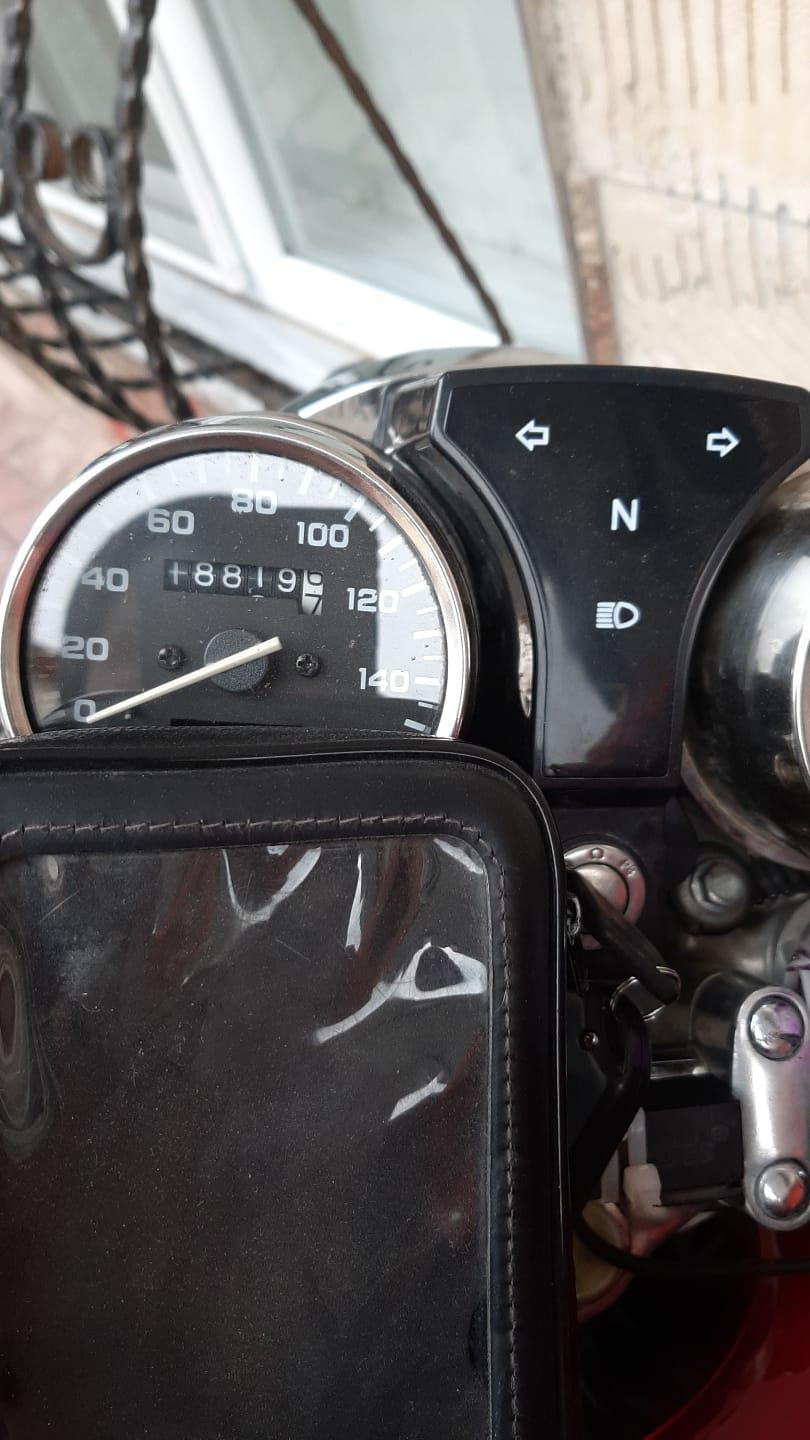1: (254, 563, 267, 589), (170, 560, 182, 587)
6: (306, 566, 324, 586)
7: (304, 590, 323, 615)
8: (192, 559, 215, 588), (220, 561, 243, 590)
9: (276, 565, 298, 594)
odometer: (158, 555, 327, 619)
